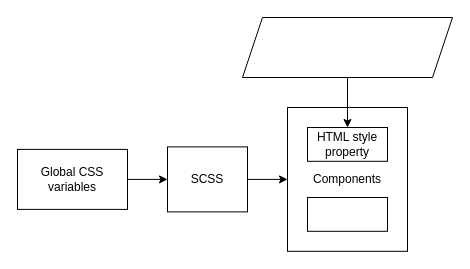
This 470x269 diagram has some shape labels left out. Here are the shapes that lost their labels. From the top down, the centre of each, then its label:
(347,47): Function Get global variable value utility
(347,213): CSS / SCSS
